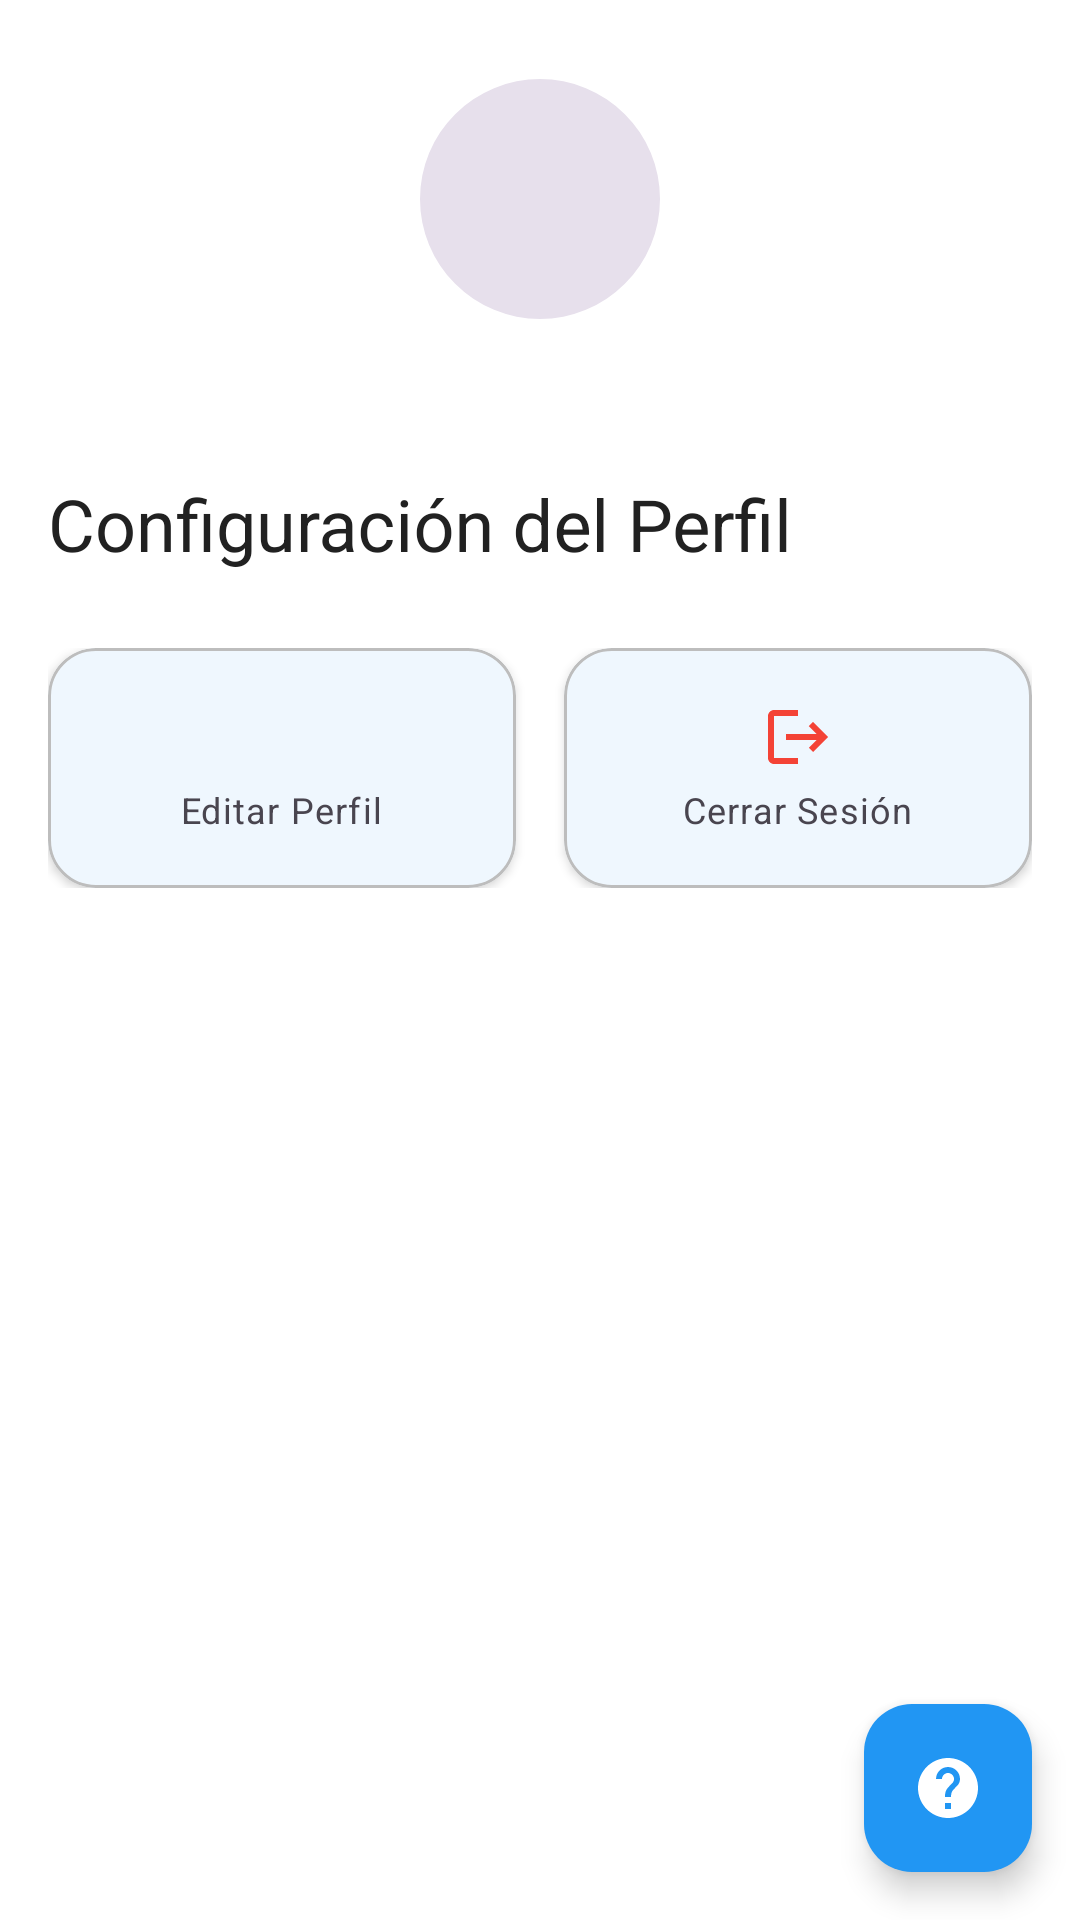

Icons on this 1080px x 1920px Android screen, each with its box as (x1, y1, x2, y2):
Ayuda y Soporte: (864, 1704, 1032, 1872)
